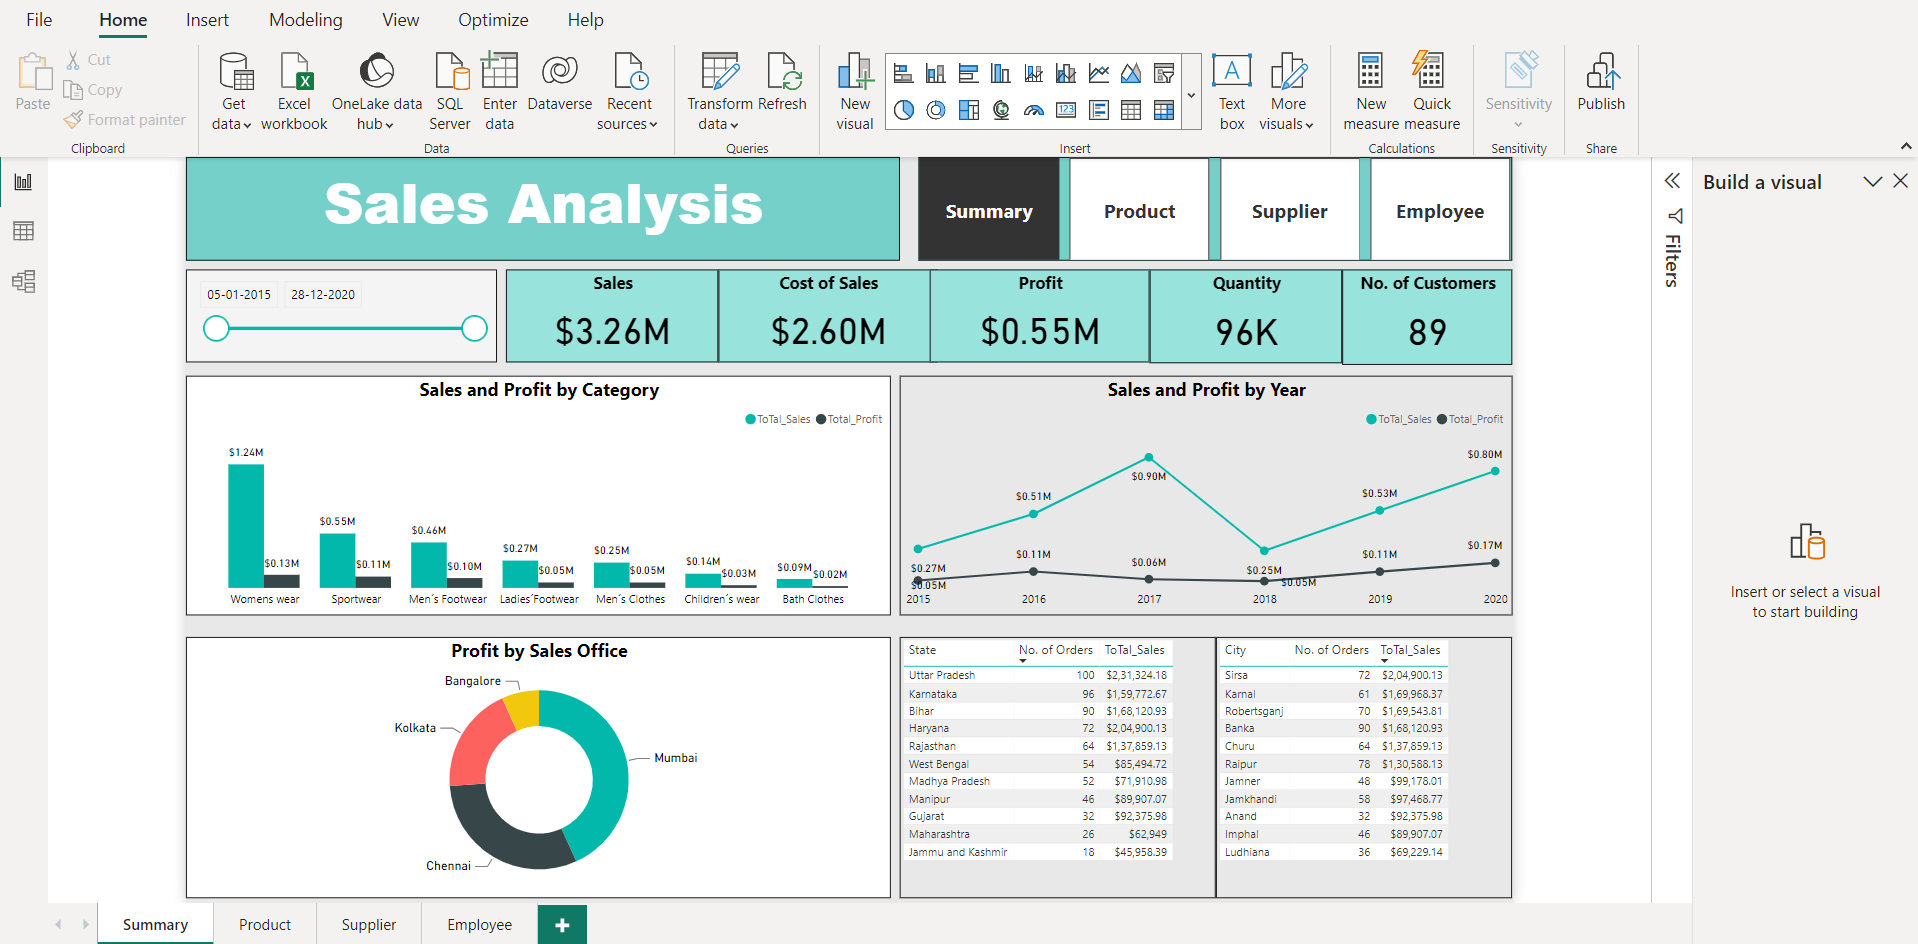

Layout of this report page (visuals, bound fields, positions):
{"tool":"powerbi","page":{"name":"Summary","canvas":[1280,720],"ordinal":0},"visuals":[{"type":"card","title":"Sales","fields":{"Values":["Measures (2).Sales"]},"box":[309,109.1,205,89.2],"z":0,"group":"g2"},{"type":"clusteredColumnChart","title":"Sales and Profit by Category","fields":{"Category":["Categories.CategoryName"],"Y":["Measures (2).ToTal_Sales","Measures (2).Sum_Of_Profit"]},"box":[0,211.1,680.2,231.6],"z":0},{"type":"card","title":"Quantity","fields":{"Values":["Measures (2).Quantity"]},"box":[929.9,108.5,185.7,90.5],"z":1000,"group":"g2"},{"type":"donutChart","title":"Profit by Sales Office","fields":{"Category":["Offices.SalesOffice"],"Y":["Measures (2).Sum_Of_Profit"]},"box":[0,463.1,680.2,252.1],"z":1000},{"type":"card","title":"No. of Customers","fields":{"Values":["Measures (2).Count_OF_Customers"]},"box":[1115.8,109.1,164,91.7],"z":2000,"group":"g2"},{"type":"lineChart","title":"Sales and Profit by Year","fields":{"Category":["Calendar.Year"],"Y":["Measures (2).ToTal_Sales","Measures (2).Sum_Of_Profit"]},"box":[688.6,211.1,591,231.6],"z":2000},{"type":"card","title":"Cost of Sales","fields":{"Values":["Measures (2).Total_Cost_Of_Sales"]},"box":[514.1,109.1,211.1,89.2],"z":3000,"group":"g2"},{"type":"tableEx","fields":{"Values":["Customers.City","OrdersHeader.OrderID","Measures (2).ToTal_Sales"]},"box":[993.8,463.1,285.8,252.1],"z":3000},{"type":"card","title":"Profit","fields":{"Values":["Measures (2).Sum_Of_Profit"]},"box":[717.7,109.1,212.3,89.2],"z":4000,"group":"g2"},{"type":"tableEx","fields":{"Values":["Customers.State","OrdersHeader.OrderID","Measures (2).ToTal_Sales"]},"box":[688.6,463.1,305.1,252.1],"z":4000},{"type":"slicer","fields":{"Values":["OrdersHeader.OrderDate"]},"box":[0,108.5,300.3,89.2],"z":5000},{"type":"pageNavigator","box":[706.7,0,572.9,100.1],"z":6000},{"type":"group","id":"g1","title":"Group 1","box":[309,108.5,970.9,92.2],"z":7000},{"type":"group","id":"g2","title":"Group 2","box":[309,108.5,970.9,92.2],"z":7002,"group":"g1"},{"type":"textbox","box":[0,0,688.6,100.1],"z":8000}]}

Visuals, with their boxes on the page's 1280x720 design canvas (x1, y1, x2, y2). These are canvas units, not pixel positions in the 1918x944 screenshot, which may show the page scaled, cropped or inside an application window:
"Sales" card: 309 109 514 198
"Sales and Profit by Category" clusteredColumnChart: 0 211 680 443
"Quantity" card: 930 108 1116 199
"Profit by Sales Office" donutChart: 0 463 680 715
"No. of Customers" card: 1116 109 1280 201
"Sales and Profit by Year" lineChart: 689 211 1280 443
"Cost of Sales" card: 514 109 725 198
tableEx - Customers.City x OrdersHeader.OrderID: 994 463 1280 715
"Profit" card: 718 109 930 198
tableEx - Customers.State x OrdersHeader.OrderID: 689 463 994 715
slicer - OrdersHeader.OrderDate: 0 108 300 198
pageNavigator: 707 0 1280 100
"Group 1" group: 309 108 1280 201
"Group 2" group: 309 108 1280 201
textbox: 0 0 689 100
